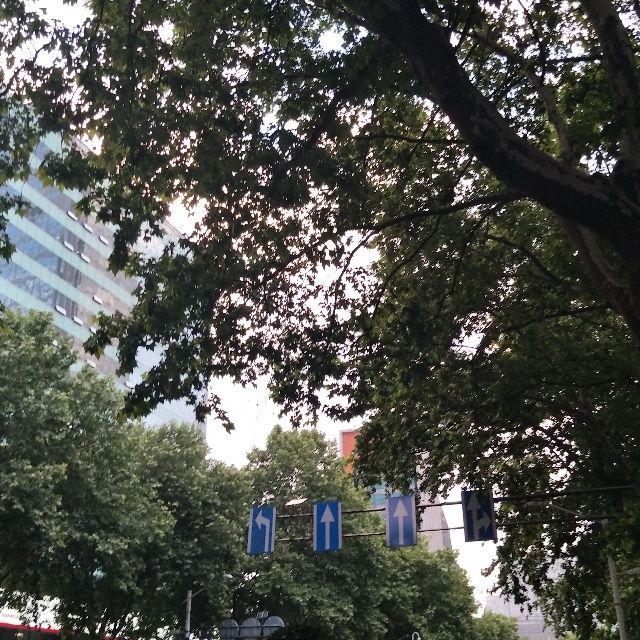left: (255, 507, 274, 552)
straight: (310, 501, 342, 551), (388, 496, 414, 547)
